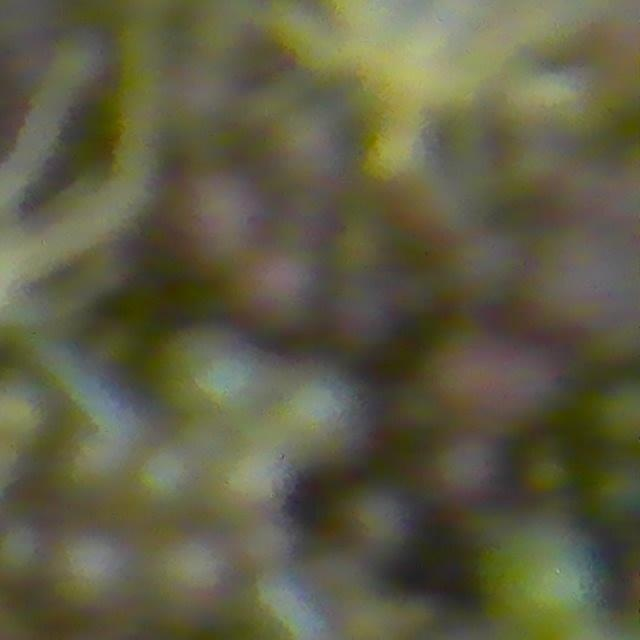SeaGrape: (485, 517, 603, 635), (272, 365, 371, 470), (164, 332, 266, 422), (145, 529, 235, 629), (49, 528, 139, 617), (240, 245, 324, 334), (176, 174, 260, 263), (340, 482, 418, 560), (430, 430, 508, 506), (213, 441, 291, 515), (135, 446, 198, 513), (592, 378, 639, 450), (591, 460, 639, 525)
